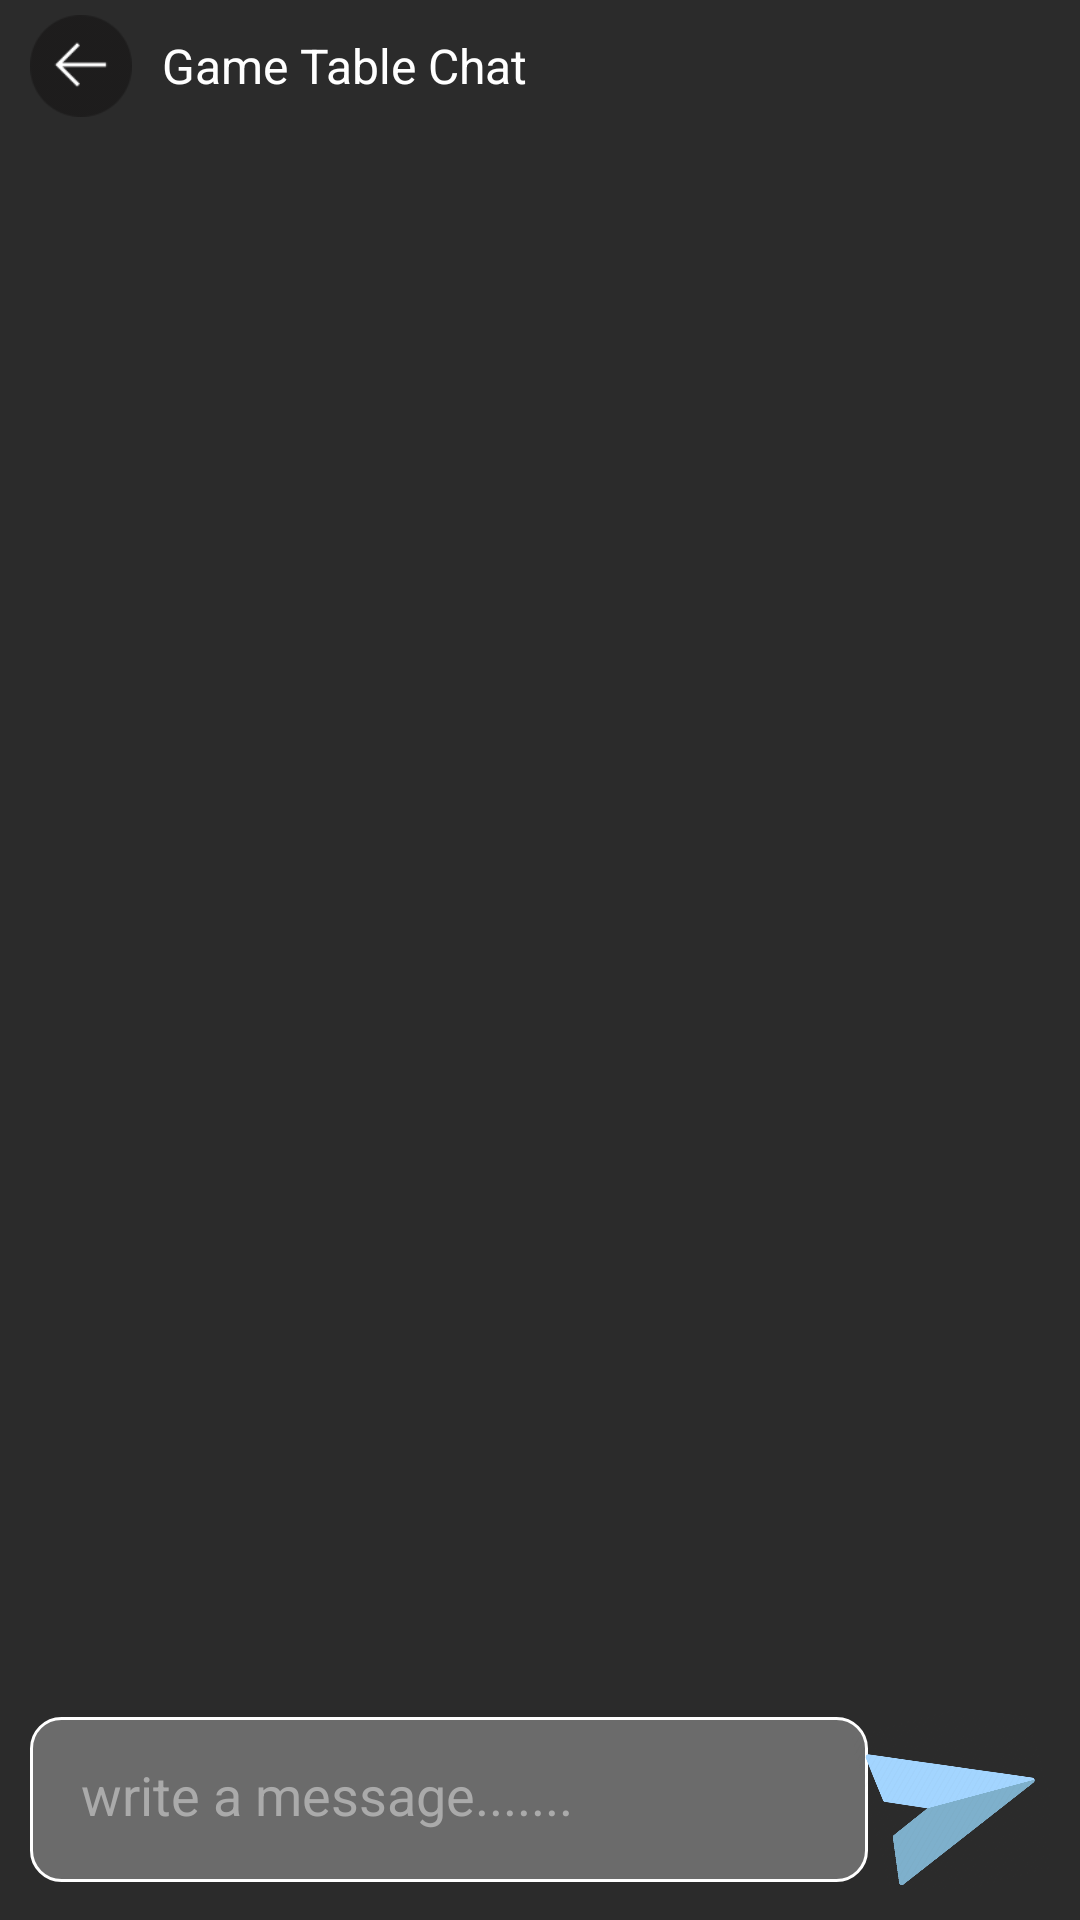

Screen size 1080px×1920px. Icon name, then its center in pixels as point (x, y):
back: point (81, 66)
